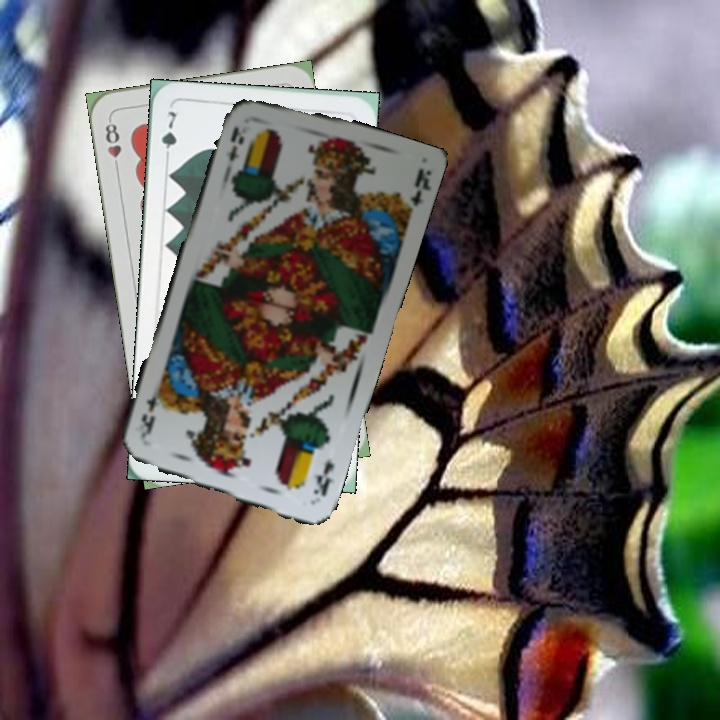EK: (309, 455, 337, 499), (222, 123, 247, 164)
G7: (157, 107, 179, 164)
H8: (101, 115, 124, 174)
